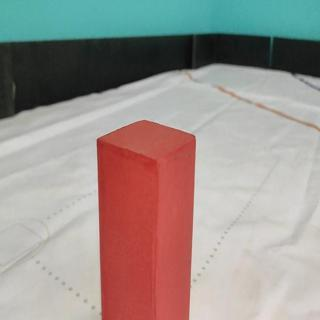redbox: (97, 119, 196, 320)
